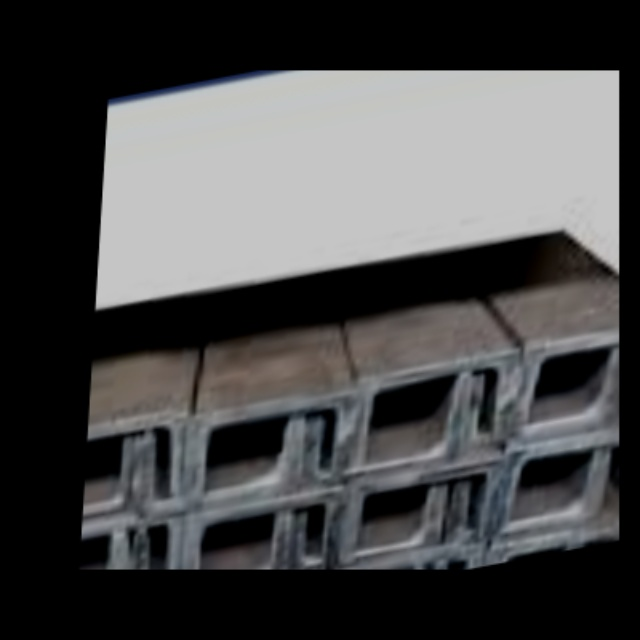Shveller: (194, 389, 356, 494), (362, 357, 515, 458), (142, 414, 296, 513), (312, 381, 465, 480), (350, 462, 498, 561), (473, 355, 619, 443), (457, 452, 604, 539), (186, 493, 343, 570), (504, 430, 619, 531), (296, 490, 440, 564), (522, 331, 619, 428), (83, 413, 181, 507), (136, 511, 285, 570), (486, 520, 619, 566), (77, 514, 181, 570), (83, 434, 132, 512), (337, 545, 479, 570)
